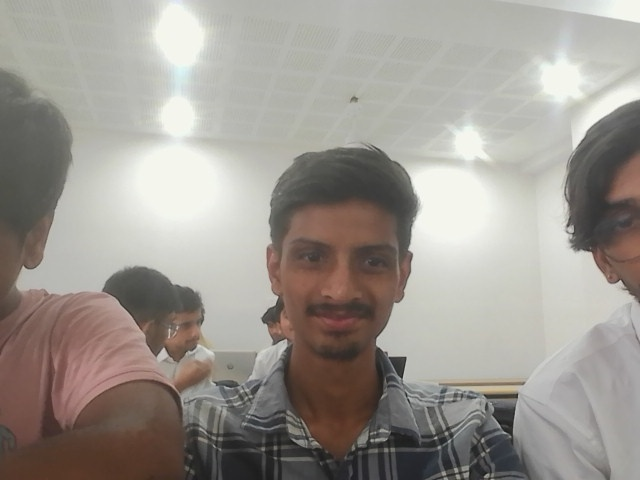light_on: (444, 178, 559, 296), (143, 16, 208, 130), (560, 80, 639, 127), (448, 120, 483, 147), (615, 5, 636, 25)
person: (0, 73, 206, 480), (257, 167, 420, 465), (512, 98, 639, 479), (100, 270, 214, 405), (155, 282, 214, 405)
